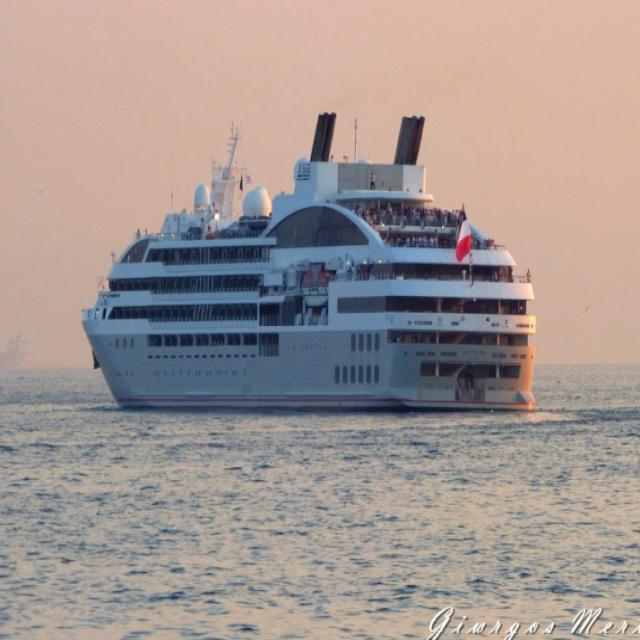cruises: (75, 109, 543, 420)
